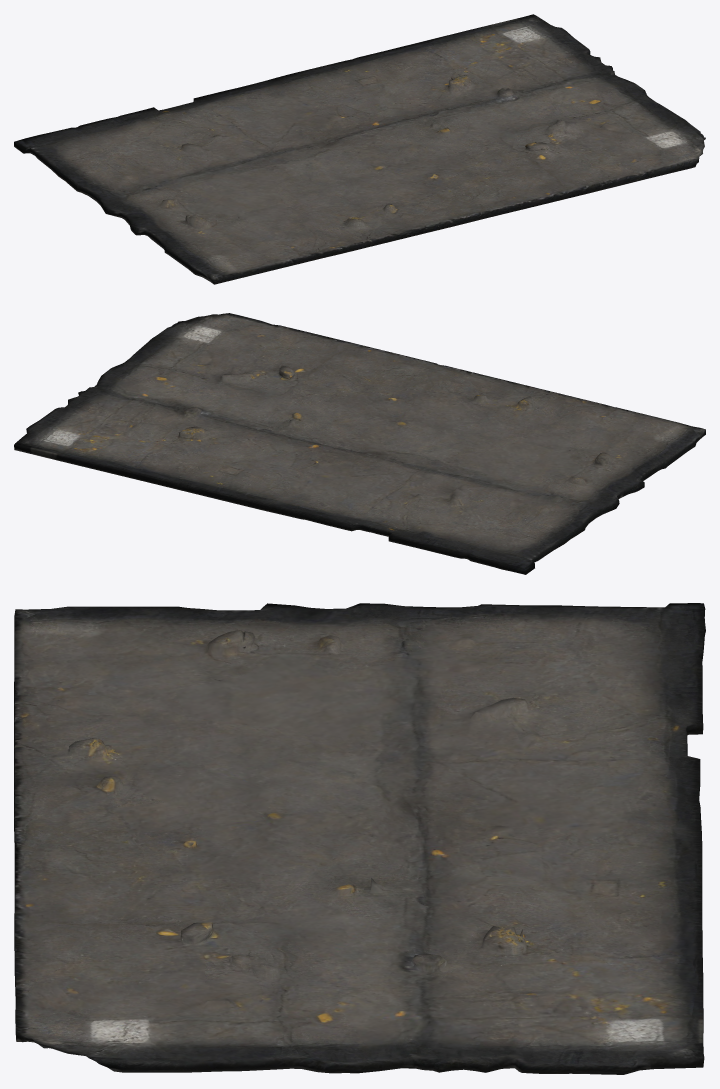
File: flooring.glb
3 views of the same model, one above another, from view 1: azimuth 30°, elevation 25°; view 2: azimuth 150°, elevation 25°; view 3: azimuth 270°, elevation 25° (orthographic). The views are drawn at different scales.
Size of the model in its own units: 1.98 by 0.0512 by 1.25.
Materials: 1 (1 with a texture image).
